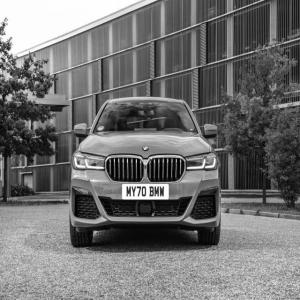Plate: (122, 183, 169, 200)
